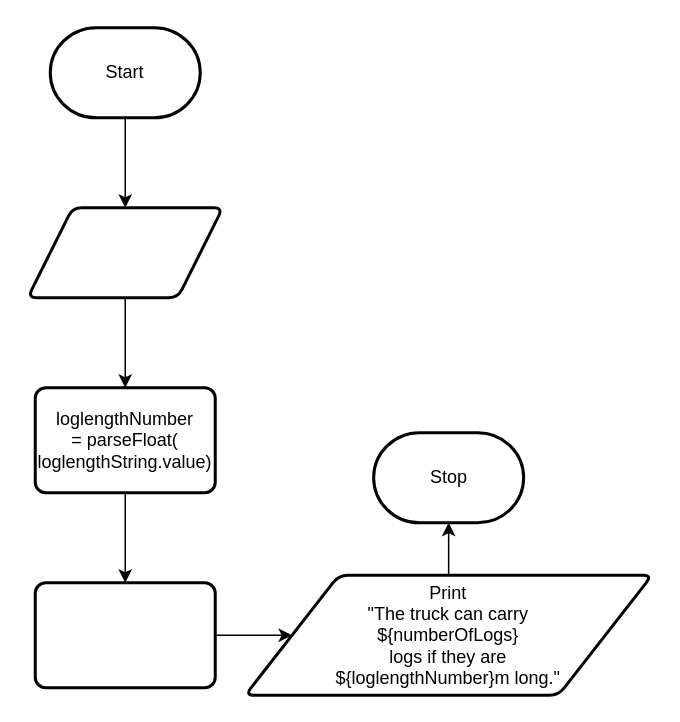
Some shapes in this 680 by 722 pixel diagram are drawn without their labels. Each missing label, with the centre of its shape:
Get loglengthString: point 125,252
let numberOfLogs = 1100 / (20 * loglengthNumber): point 124,634
